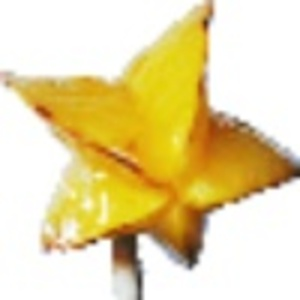carambola: (1, 1, 300, 300)
